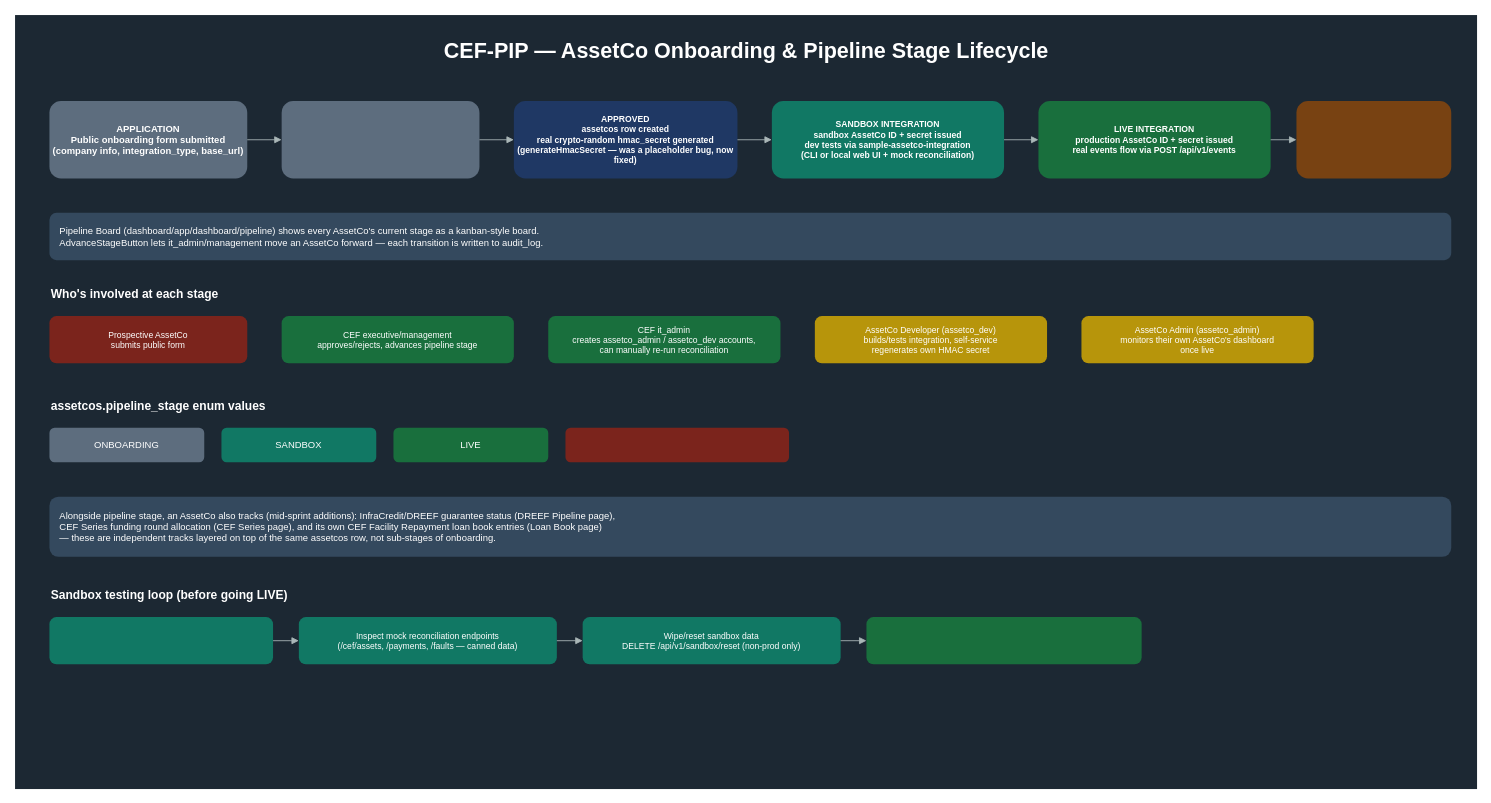
This 1491x803 diagram has some shape labels left out. Here are the shapes that lost their labels. From the top down, the box of each, then its label:
(281, 101, 479, 178): REVIEW CEF executive/management reviews Applications queue
(1296, 101, 1451, 178): ONGOING nightly + lazy per-AssetCo + manual reconciliation keeps records in sync
(565, 427, 789, 462): SUSPENDED (off-ramp, any stage → here on issue)
(49, 617, 273, 664): Trigger individual event types or replay all 14 chronologically
(866, 617, 1141, 664): Confirm events visible in CEF-PIP dashboard → ready for production credentials
